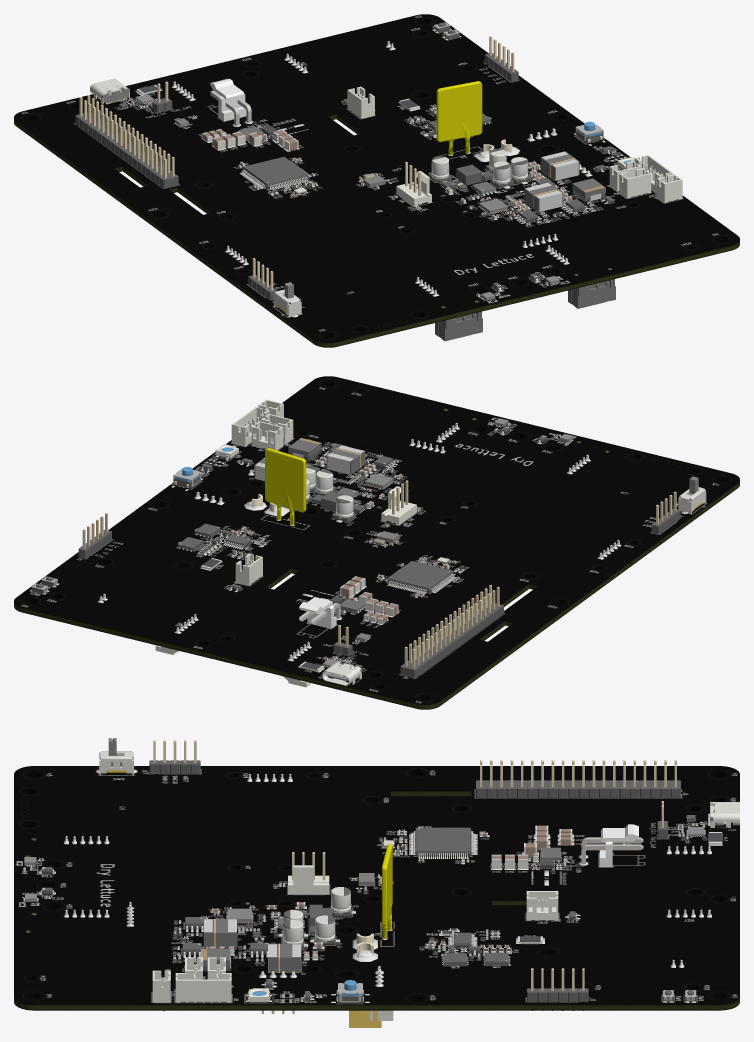
File: pcbv2.glb
3 renders of one model, top to bottom at view 1: azimuth 30°, elevation 25°; view 2: azimuth 150°, elevation 25°; view 3: azimuth 270°, elevation 25°, orthographic. The views are drawn at different scales.
Visible parts, largest first — view 1: PCB_black_pcb, PinHeader_2x20_P2.54mm_Vertical, MF-RG900-0, LQFP-100_14x14mm_P0.5mm, B2PS-VH_LF__SN_, FanPinHeader_1x04_P2.54mm_Vertical, HSEC8-110-01-S-DV-A.001, HSEC8-110-01-S-DV-A, IND_TAIYO_NRS8040_TAY, IND_TAIYO_NRS8040_TAY.001, PinHeader_1x06_P2.54mm_Vertical, JST_PH_B3B-PH-K_1x03_P2.00mm_Vertical.002 (+7 smaller); view 2: PCB_black_pcb, PinHeader_2x20_P2.54mm_Vertical, MF-RG900-0, LQFP-100_14x14mm_P0.5mm, B2PS-VH_LF__SN_, FanPinHeader_1x04_P2.54mm_Vertical, IND_TAIYO_NRS8040_TAY.001, PinHeader_1x06_P2.54mm_Vertical, JST_PH_B6B-PH-K_1x06_P2.00mm_Vertical, JST_PH_B3B-PH-K_1x03_P2.00mm_Vertical.001, PinHeader_1x05_P2.54mm_Vertical, USB_C_Receptacle_GCT_USB4105-xx-A_16P_TopMnt_Horizontal (+3 smaller); view 3: PCB_black_pcb, PinHeader_2x20_P2.54mm_Vertical, LQFP-100_14x14mm_P0.5mm, B2PS-VH_LF__SN_, JST_PH_B6B-PH-K_1x06_P2.00mm_Vertical, FanPinHeader_1x04_P2.54mm_Vertical, PinHeader_1x06_P2.54mm_Vertical, PinHeader_1x05_P2.54mm_Vertical, IND_TAIYO_NRS8040_TAY, JST_PH_B3B-PH-K_1x03_P2.00mm_Vertical, IND_TAIYO_NRS8040_TAY.001, MF-RG900-0 (+8 smaller).
Part boxes in pixels (<box>): PCB_black_pcb: <box>14,14,739,347</box>; PinHeader_2x20_P2.54mm_Vertical: <box>75,95,178,193</box>; MF-RG900-0: <box>436,81,482,155</box>; LQFP-100_14x14mm_P0.5mm: <box>241,156,310,189</box>; B2PS-VH_LF__SN_: <box>210,78,251,125</box>; FanPinHeader_1x04_P2.54mm_Vertical: <box>396,161,431,206</box>; HSEC8-110-01-S-DV-A.001: <box>435,301,482,341</box>; HSEC8-110-01-S-DV-A: <box>568,269,615,308</box>; IND_TAIYO_NRS8040_TAY: <box>540,151,579,180</box>; IND_TAIYO_NRS8040_TAY.001: <box>524,182,563,211</box>; PinHeader_1x06_P2.54mm_Vertical: <box>485,36,518,81</box>; JST_PH_B3B-PH-K_1x03_P2.00mm_Vertical.002: <box>619,168,651,198</box>; PCB_black_pcb: <box>14,376,739,709</box>; PinHeader_2x20_P2.54mm_Vertical: <box>400,585,503,678</box>; MF-RG900-0: <box>265,448,306,525</box>; LQFP-100_14x14mm_P0.5mm: <box>386,561,454,593</box>; B2PS-VH_LF__SN_: <box>299,597,340,628</box>; FanPinHeader_1x04_P2.54mm_Vertical: <box>381,480,416,525</box>; IND_TAIYO_NRS8040_TAY.001: <box>326,445,365,474</box>; PinHeader_1x06_P2.54mm_Vertical: <box>78,512,111,558</box>; JST_PH_B6B-PH-K_1x06_P2.00mm_Vertical: <box>231,406,269,446</box>; JST_PH_B3B-PH-K_1x03_P2.00mm_Vertical.001: <box>251,421,283,450</box>; PinHeader_1x05_P2.54mm_Vertical: <box>651,491,680,534</box>; USB_C_Receptacle_GCT_USB4105-xx-A_16P_TopMnt_Horizontal: <box>322,661,361,685</box>; PCB_black_pcb: <box>14,766,739,1010</box>; PinHeader_2x20_P2.54mm_Vertical: <box>476,760,680,798</box>; LQFP-100_14x14mm_P0.5mm: <box>411,827,475,857</box>; B2PS-VH_LF__SN_: <box>581,824,643,866</box>; JST_PH_B6B-PH-K_1x06_P2.00mm_Vertical: <box>175,973,231,1002</box>; FanPinHeader_1x04_P2.54mm_Vertical: <box>288,852,329,894</box>; PinHeader_1x06_P2.54mm_Vertical: <box>527,968,588,1010</box>; PinHeader_1x05_P2.54mm_Vertical: <box>149,740,200,773</box>; IND_TAIYO_NRS8040_TAY: <box>268,943,301,972</box>; JST_PH_B3B-PH-K_1x03_P2.00mm_Vertical: <box>526,891,558,920</box>; IND_TAIYO_NRS8040_TAY.001: <box>204,919,236,947</box>; MF-RG900-0: <box>382,844,392,938</box>.
Bounding box in the file's own units: 0.14 × 0.0393 × 0.18.
94 materials, 1 textured.
